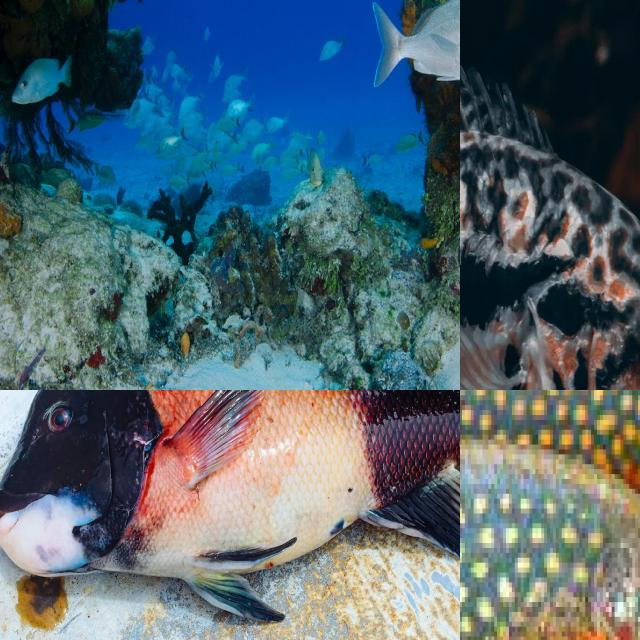fish: (0, 0, 460, 390), (460, 390, 640, 621), (473, 189, 640, 390)
